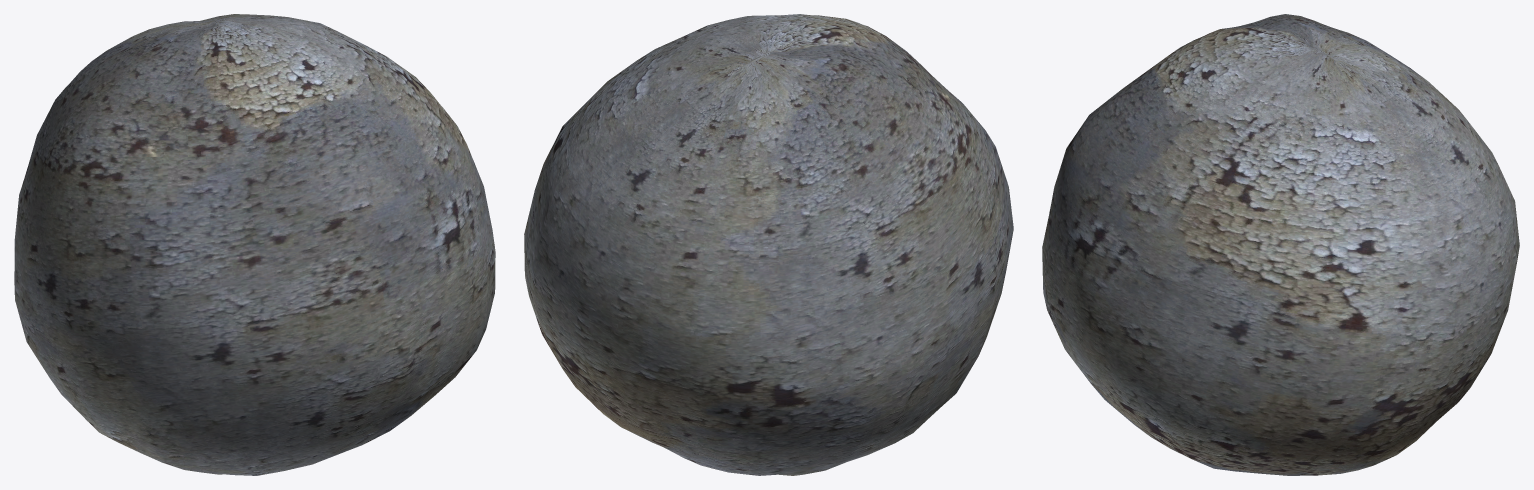
Rendered from rock.obj.
3 views of the same model, side by side, from view 1: azimuth 30°, elevation 25°; view 2: azimuth 150°, elevation 25°; view 3: azimuth 270°, elevation 25° (orthographic). The views are drawn at different scales.
Parts seen in each view (by area): view 1: Sphere; view 2: Sphere; view 3: Sphere.
Part boxes in pixels (box(x1,y1,x2,y2)): Sphere: box(14, 14, 495, 475); Sphere: box(524, 14, 1013, 475); Sphere: box(1042, 14, 1519, 475).
Size of the model in its own units: 1.96 by 1.87 by 2.02.
